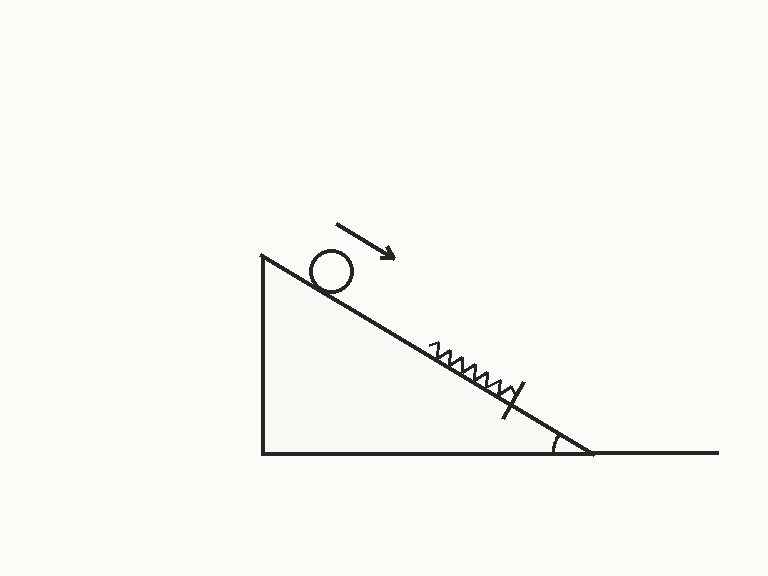ball: (307, 247, 355, 295)
ramp: (259, 253, 595, 456)
spring: (426, 340, 517, 398)
